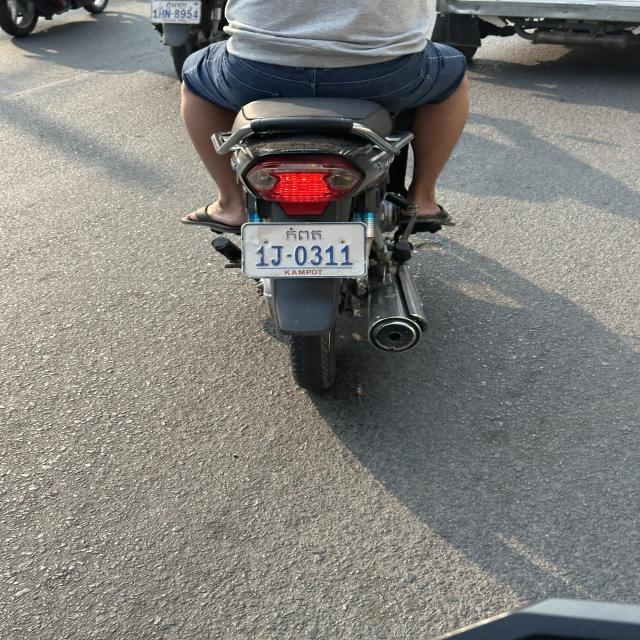Kampot: (285, 227, 323, 242)
